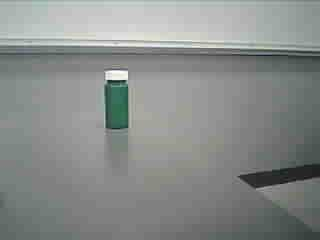Bottle C: (95, 62, 139, 134)
